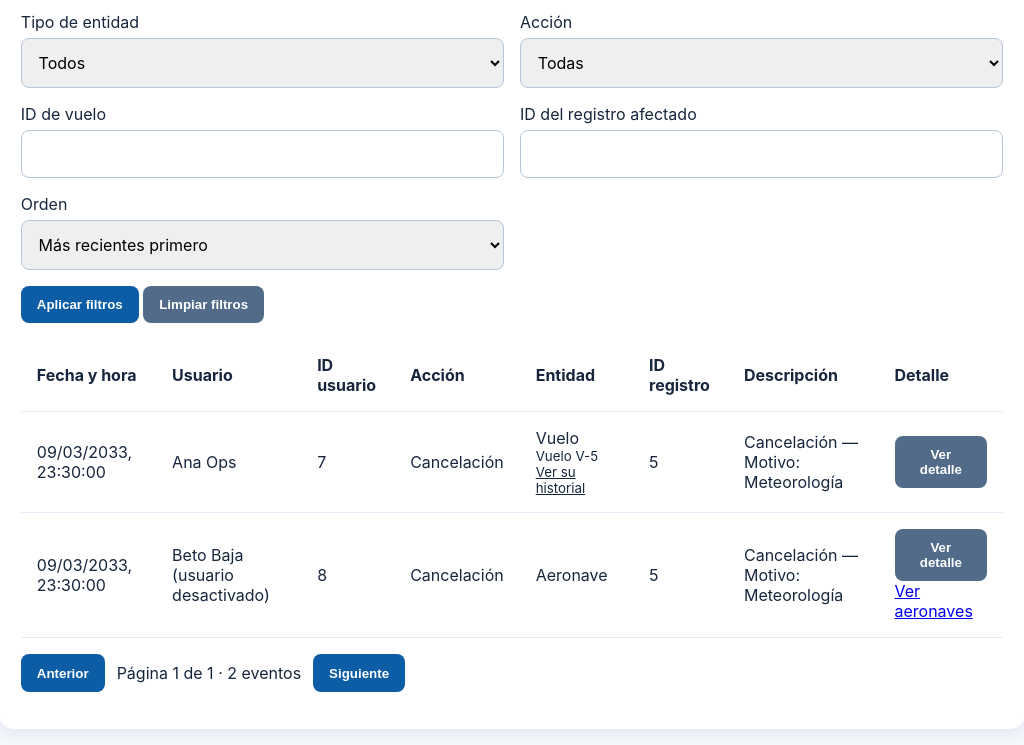
Test: el administrador ve la tabla paginada, los usuarios desactivados y abre el detalle con datos enmascarados
The image size is (1024, 745).
(page scrolled)
Expected: the text "Beto Baja (usuario desactivado)" is shown, [156,513,301,638]
Expected: the text "Cancelación" in the row of "Ana Ops" is shown, [410,452,504,472]
Click the button "Ver detalle" in the row of "Ana Ops" at (941, 462), box [894,436,987,488]
(page scrolled)
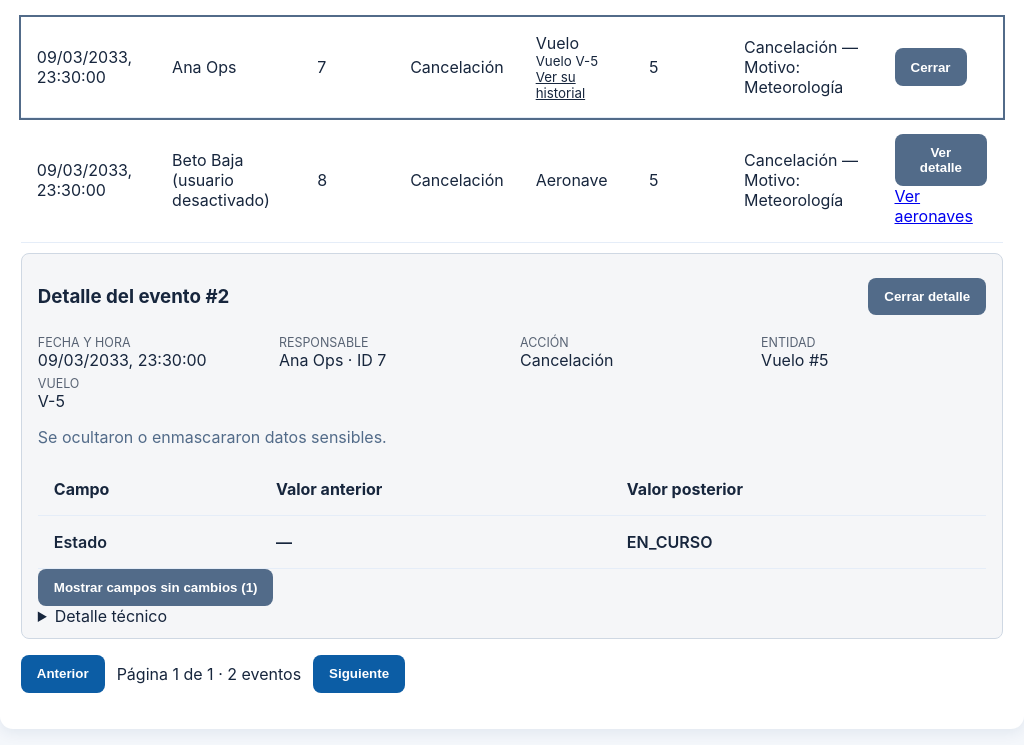
Expected: the text "Se ocultaron o enmascararon datos sensibles." is shown, [38,427,387,447]
Expected: the text "EN_CURSO" is shown, [611,515,986,568]
Expected: the heading "Detalle técnico" is shown, [55,606,167,626]
